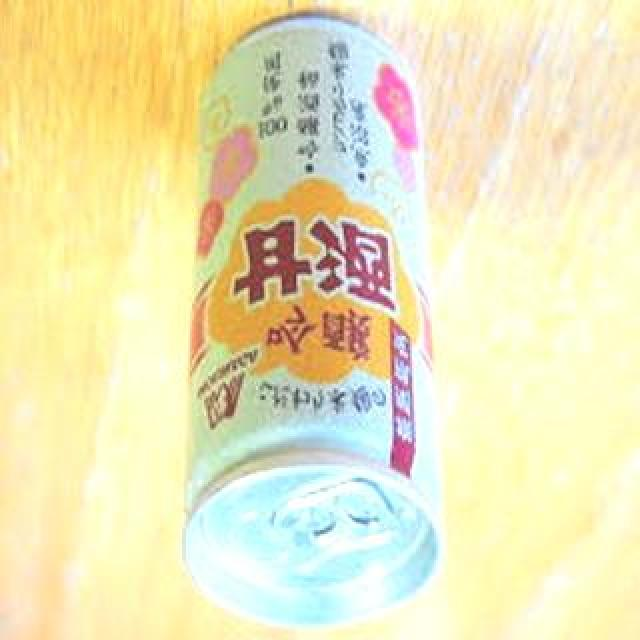Can: (181, 17, 443, 637)
